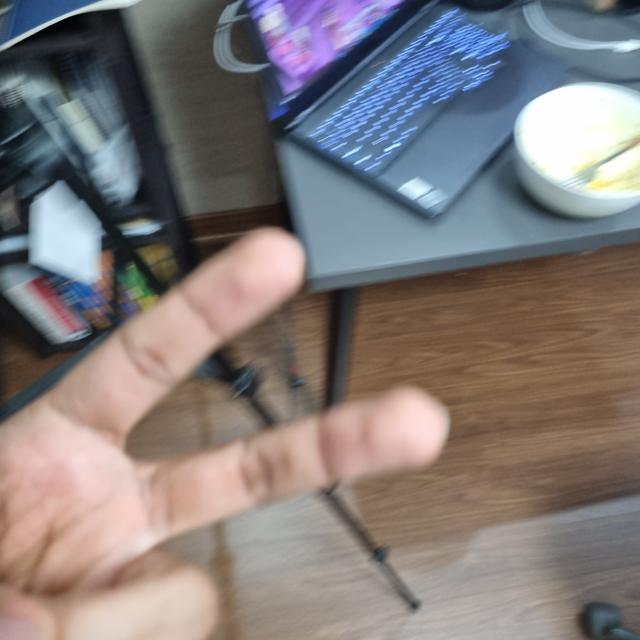Scissors: (0, 238, 445, 636)
